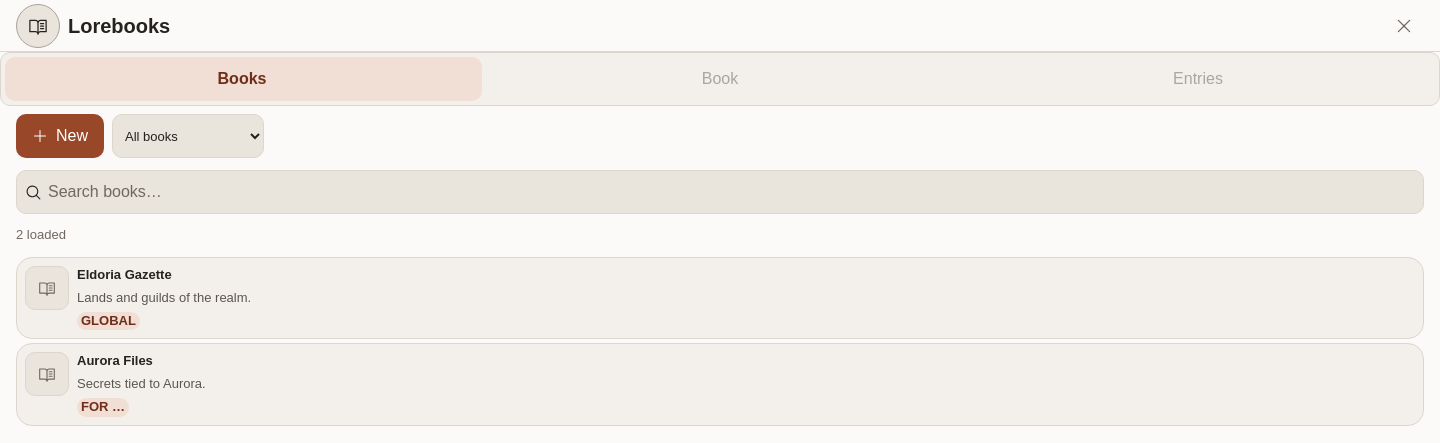
LorebookPanel › lists books and scopes the view to global books only
Expected: the text "Eldoria Gazette" is shown, x1=77 y1=267 x2=172 y2=282
Expected: the text "Aurora Files" is shown, x1=77 y1=353 x2=153 y2=368
Select "Global" in the dropdown named "Scope" at coordinates (188, 136), box x1=112 y1=114 x2=264 y2=158
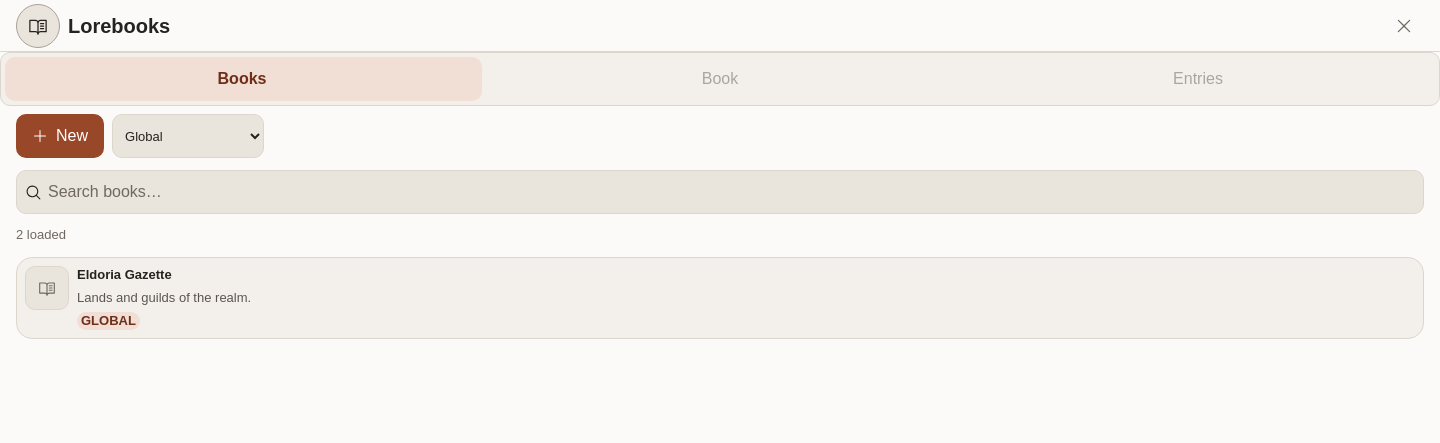
Expected: the text "Eldoria Gazette" is shown, x1=77 y1=267 x2=172 y2=282
Now the button "Aurora Files" is gone
